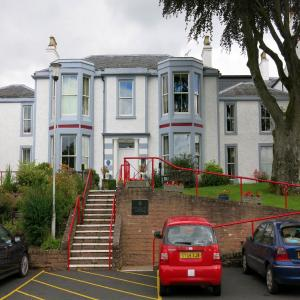Vehicle-registration-plate: (181, 252, 203, 259), (299, 252, 300, 260)
